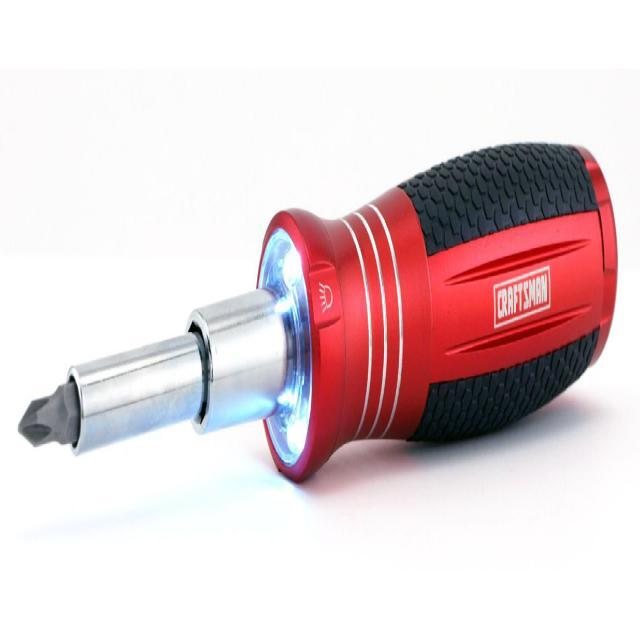screwdriver: (14, 130, 621, 492)
